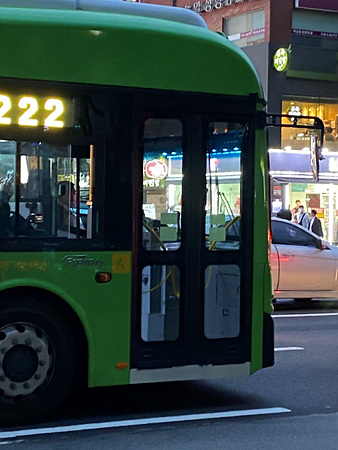entrance: (129, 91, 252, 360)
